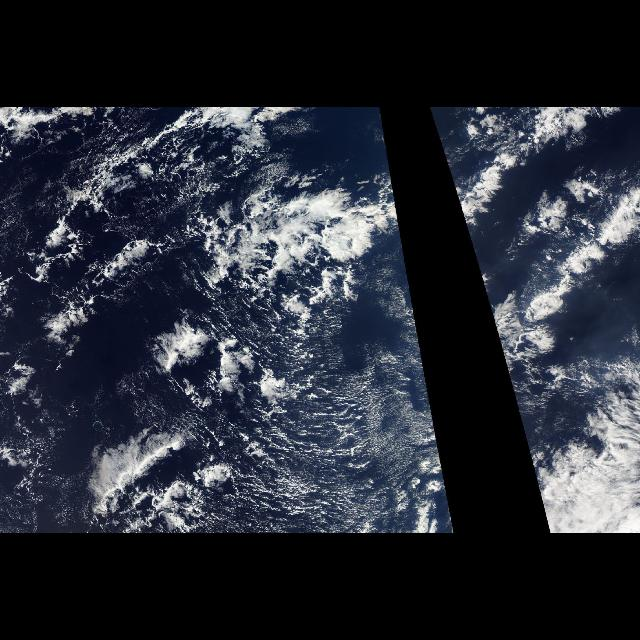Fish: (444, 110, 640, 374), (9, 114, 161, 336), (96, 428, 227, 532)
Sugar: (246, 306, 454, 534)
